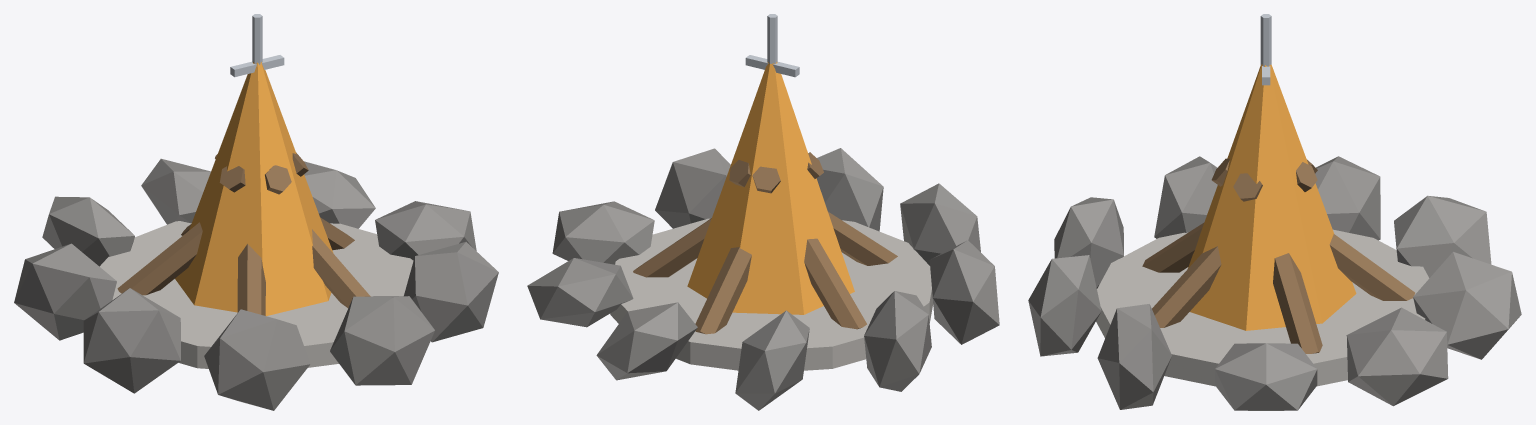
The model's file is ognisko.glb.
3 views of the same model, side by side, from view 1: azimuth 30°, elevation 25°; view 2: azimuth 150°, elevation 25°; view 3: azimuth 270°, elevation 25° (orthographic). The views are drawn at different scales.
Parts seen in each view (by area): view 1: ognisko; view 2: ognisko; view 3: ognisko.
Boxes of the visible parts, bbox=[...] form: ognisko: bbox=[14, 14, 498, 410]; ognisko: bbox=[527, 14, 999, 410]; ognisko: bbox=[1028, 14, 1521, 410].
Bounding box in the file's own units: 2.33 × 1.67 × 2.29.
